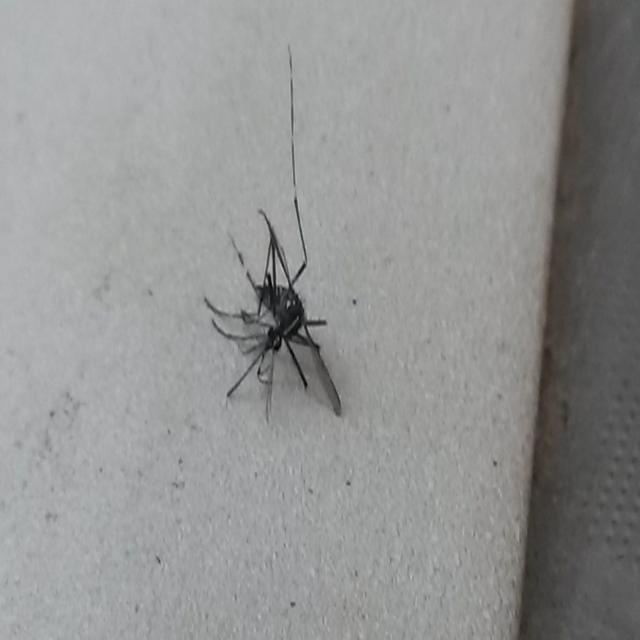albopictus: (192, 49, 345, 427)
